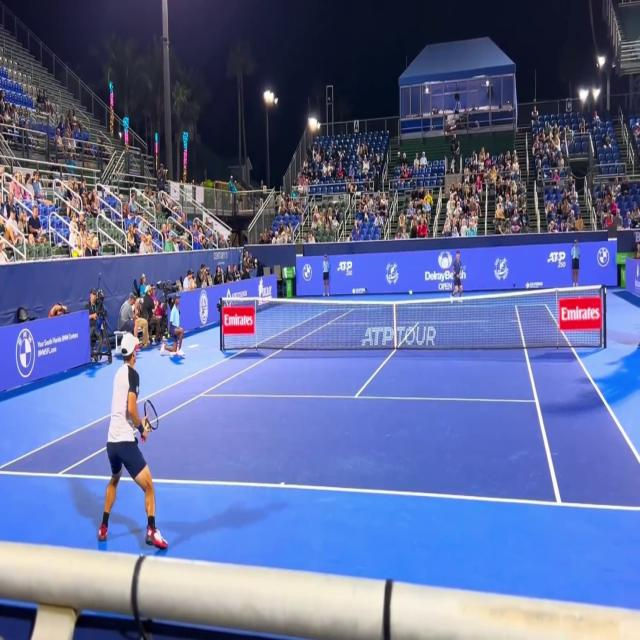tennisBall: (409, 288, 414, 296)
